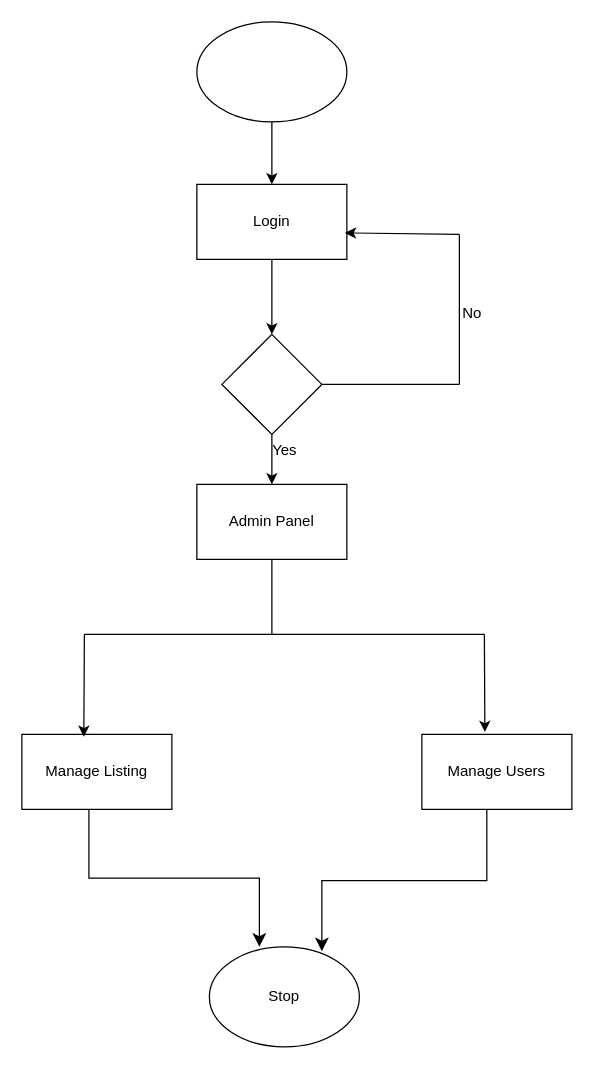
Some shapes in this 594 by 1069 pixel diagram are drawn without their labels. Here are the shapes that lost their labels. From the top down, the centre of each, then its label:
[271,71]: Start
[271,383]: Verified?
